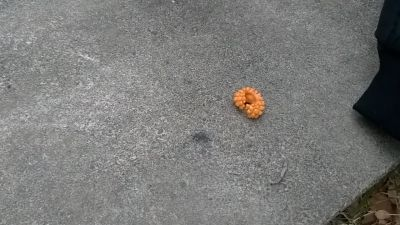eggs: (232, 86, 267, 120)
